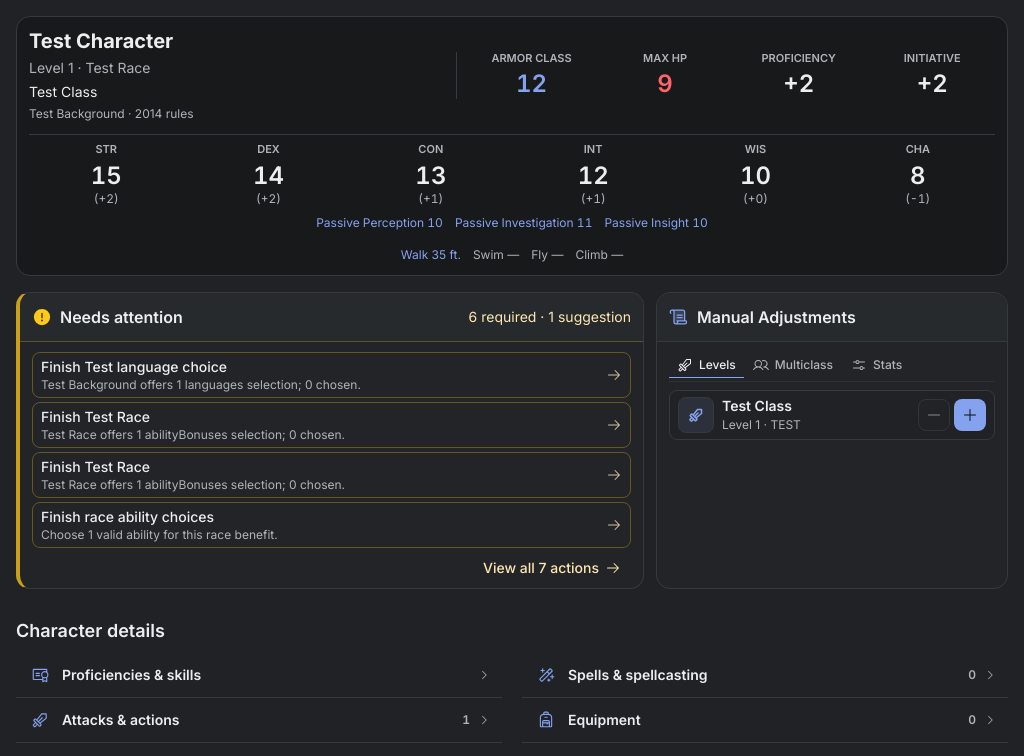
Test: BuildOverviewPage › links to Background from the full setup list when fixed equipment rules are missing
What coordinates should you click on to do the following:
click the button "View all 7 actions"
I would click on:
 (552, 568)
Its box is left=473, top=552, right=631, bottom=584.
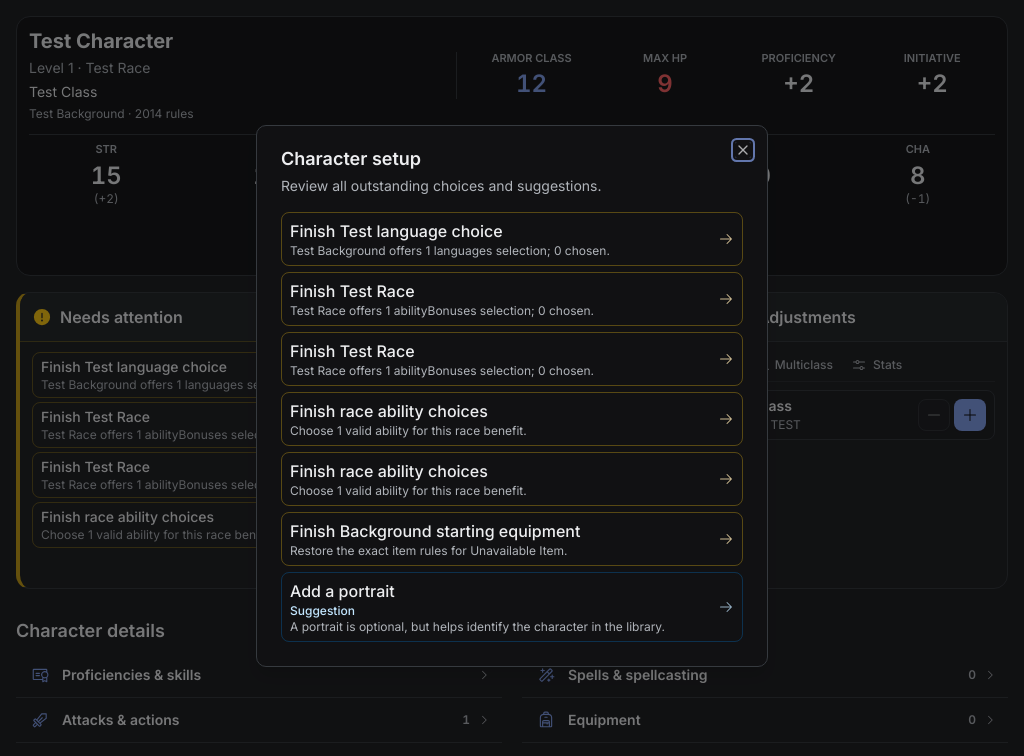
Expected: the text "Restore the exact item rules for Unavailable Item." is shown, left=290, top=543, right=568, bottom=558
Expected: the link "Finish Background starting equipment" is shown, left=282, top=513, right=742, bottom=565
